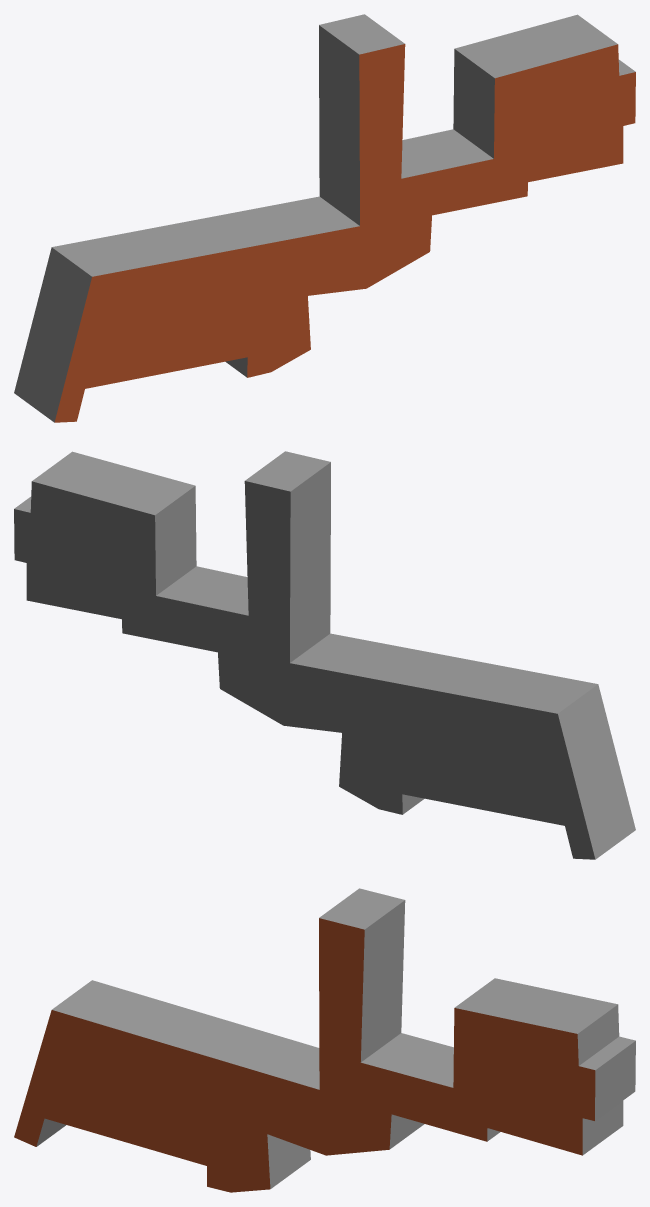
The model's file is construction_3684_assumed_A_Casa_h6m.obj.
3 renders of one model, top to bottom at view 1: azimuth 30°, elevation 25°; view 2: azimuth 150°, elevation 25°; view 3: azimuth 330°, elevation 25°, orthographic.
Parts seen in each view (by area): view 1: construction_3684_assumed_A_Casa; view 2: construction_3684_assumed_A_Casa; view 3: construction_3684_assumed_A_Casa.
Boxes of the visible parts, x1=… form: construction_3684_assumed_A_Casa: x1=14, y1=14, x2=635, y2=422; construction_3684_assumed_A_Casa: x1=14, y1=451, x2=635, y2=859; construction_3684_assumed_A_Casa: x1=14, y1=888, x2=635, y2=1192.
Size of the model in its own units: 49.7 by 24.35 by 6.
